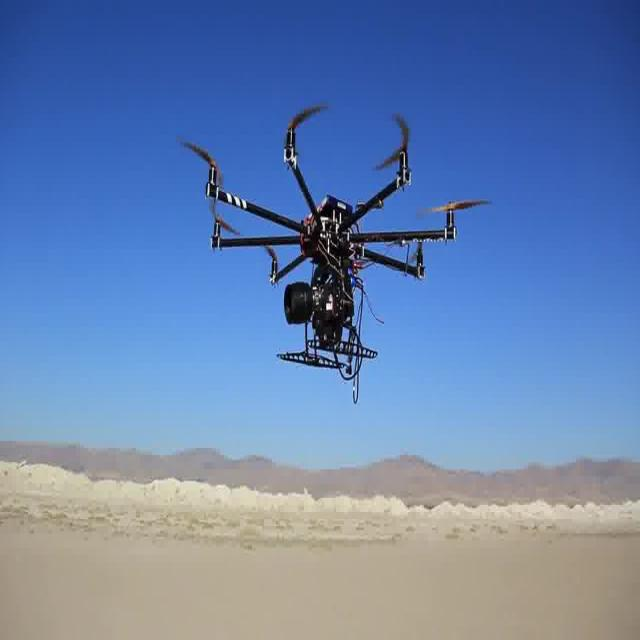drone: (173, 96, 495, 377)
